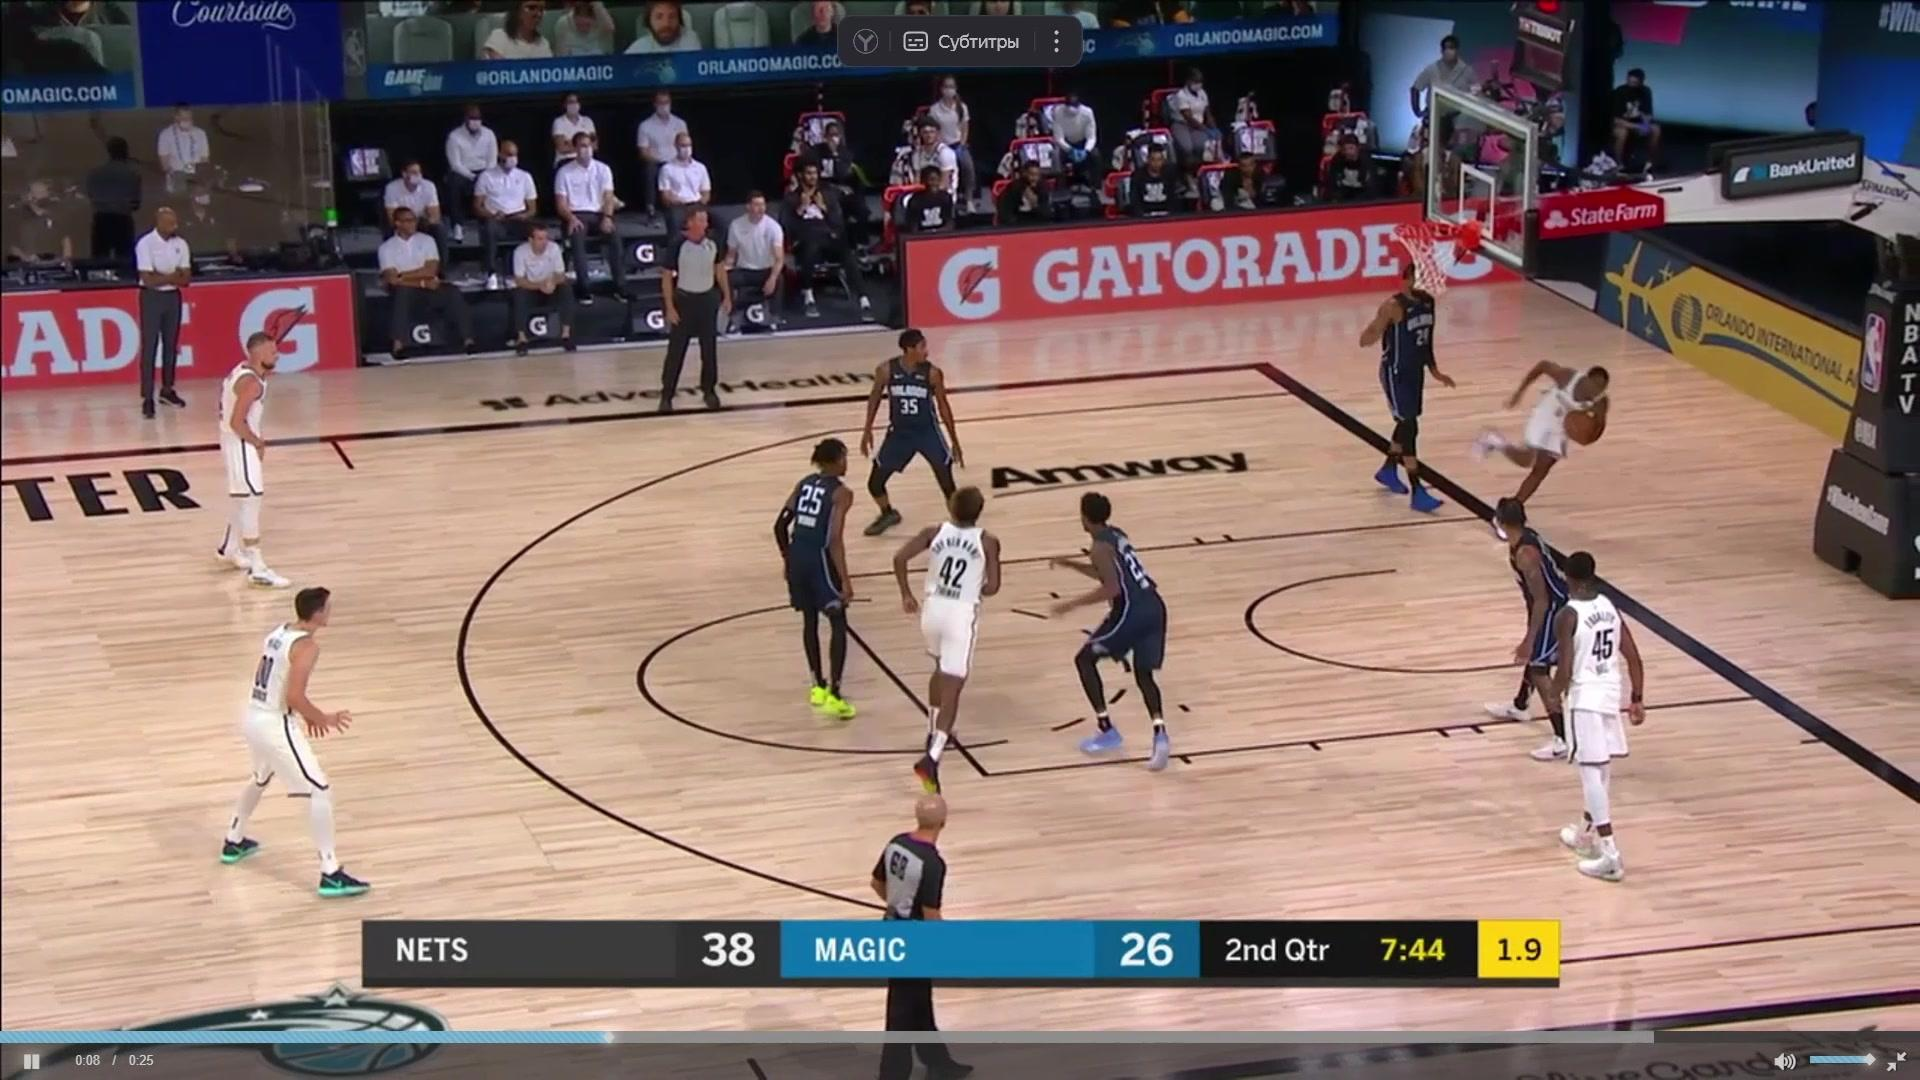foul: (1357, 265, 1630, 541)
